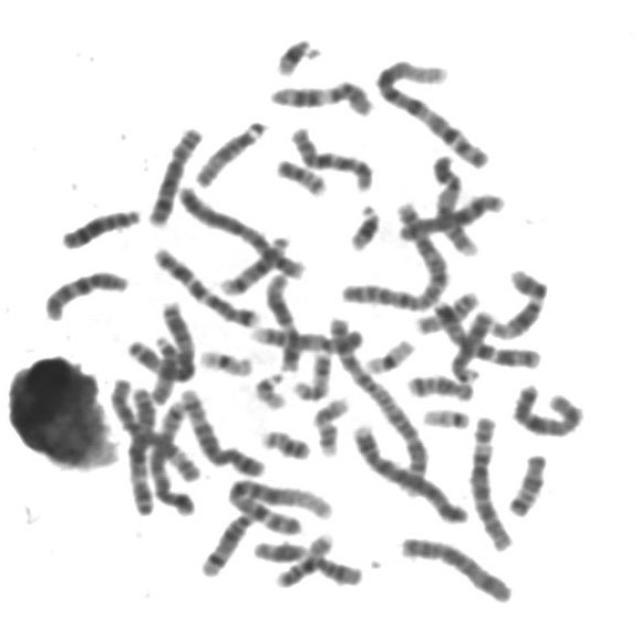A1: (370, 53, 495, 172), (222, 472, 336, 538)
A2: (324, 311, 431, 494), (333, 197, 453, 313)
A3: (123, 296, 199, 382), (123, 380, 159, 520)
B4: (173, 180, 309, 283), (346, 418, 472, 526)
B5: (175, 382, 269, 479), (145, 394, 199, 518)
C10: (286, 121, 378, 193), (39, 265, 132, 323)
C11: (247, 534, 365, 588), (264, 75, 376, 118)
C12: (484, 264, 551, 341), (260, 267, 306, 374)
C6: (104, 373, 205, 485), (465, 410, 518, 553)
C7: (150, 242, 262, 330), (426, 294, 545, 370)
C8: (143, 121, 206, 229), (393, 188, 508, 242)
C9: (426, 150, 481, 258), (246, 320, 365, 355)
D13: (56, 203, 144, 251), (447, 305, 497, 384)
D14: (215, 230, 293, 298), (196, 506, 260, 580)
D15: (190, 114, 270, 190), (145, 329, 181, 407)
E16: (271, 528, 337, 590), (410, 285, 482, 336)
E17: (309, 392, 353, 459), (288, 346, 334, 402)
E18: (504, 448, 551, 519), (403, 368, 477, 402)
F19: (358, 333, 418, 376), (195, 344, 257, 378)
F20: (271, 153, 330, 198), (257, 424, 313, 462)
G21: (271, 32, 322, 78), (344, 198, 384, 253)
G22: (249, 367, 290, 412), (417, 403, 474, 431)
X: (395, 532, 516, 606), (508, 378, 588, 441)
